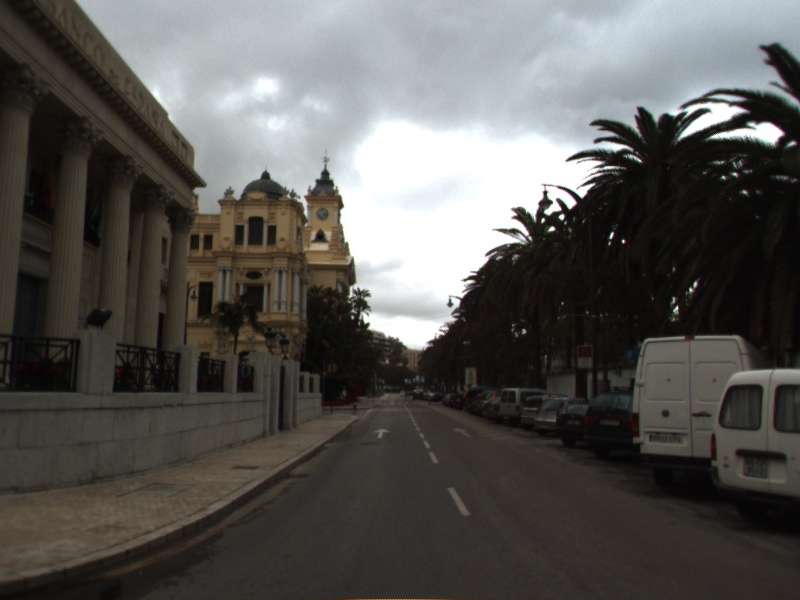STRAIGHT: (451, 425, 474, 439), (371, 426, 392, 441)
